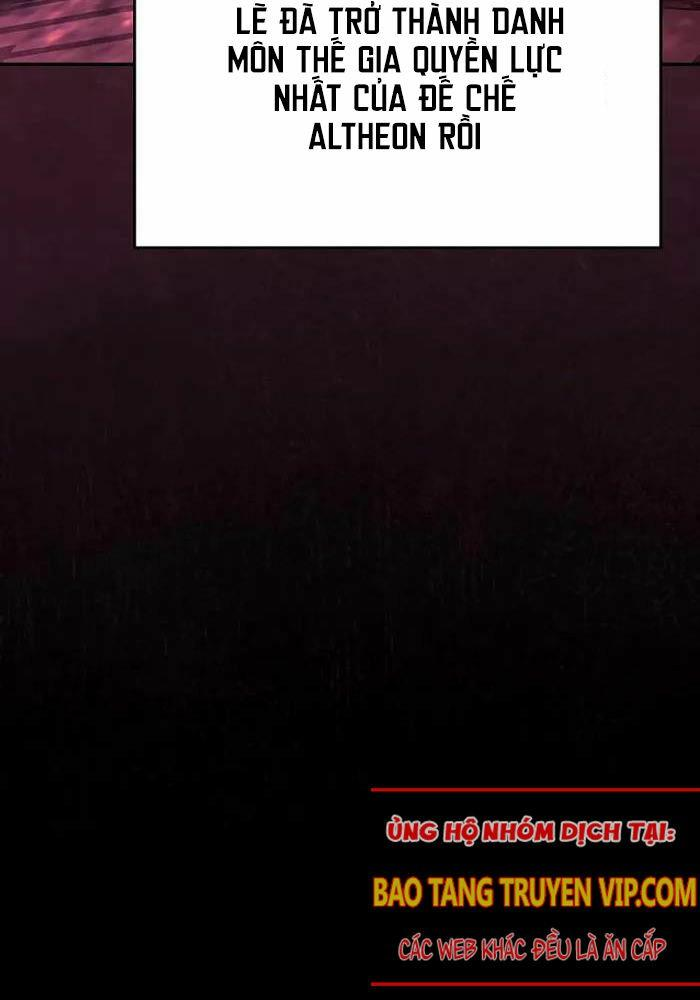quangcao: (367, 787, 700, 991)
